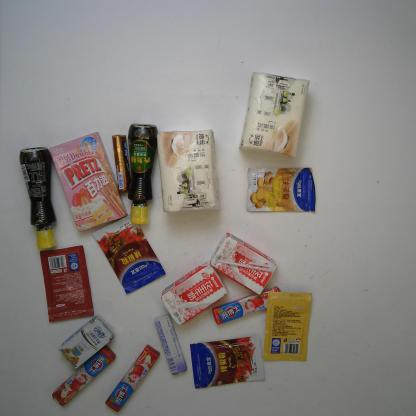Candy: (50, 344, 120, 408), (105, 344, 162, 414), (209, 284, 284, 326), (151, 312, 189, 379), (110, 133, 133, 194)
Dessert: (48, 130, 129, 235)
Milk: (207, 230, 278, 298), (160, 261, 230, 327), (58, 317, 116, 372)
Seasoner: (89, 213, 168, 295), (17, 144, 61, 251), (39, 243, 96, 324), (189, 332, 265, 392), (241, 164, 320, 216), (262, 288, 313, 364), (126, 121, 161, 227)
Tissue: (236, 69, 313, 160), (154, 124, 221, 214)
